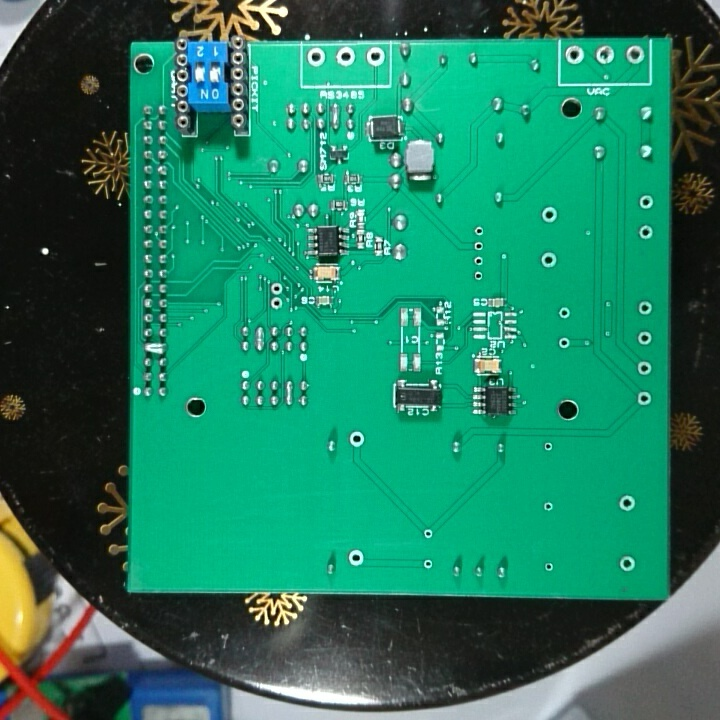F: (303, 46, 330, 72), (365, 46, 391, 73), (333, 46, 358, 72), (595, 43, 619, 69), (623, 43, 647, 67), (564, 42, 585, 69), (634, 389, 657, 412), (347, 428, 368, 452), (616, 493, 638, 515), (346, 547, 367, 569), (539, 206, 559, 229), (639, 191, 658, 215), (638, 298, 656, 323), (636, 223, 655, 246), (635, 357, 655, 378), (638, 328, 656, 351), (618, 555, 637, 575), (539, 250, 559, 269), (419, 551, 436, 573), (267, 279, 287, 297), (267, 294, 286, 311), (541, 495, 559, 510), (473, 223, 488, 238), (556, 306, 572, 320), (472, 239, 488, 253), (541, 561, 559, 573), (473, 254, 487, 269), (422, 526, 436, 541), (556, 335, 574, 346), (472, 267, 485, 282), (539, 438, 559, 446)
P: (142, 340, 171, 360), (254, 322, 268, 360), (283, 379, 296, 409), (330, 98, 341, 133)
